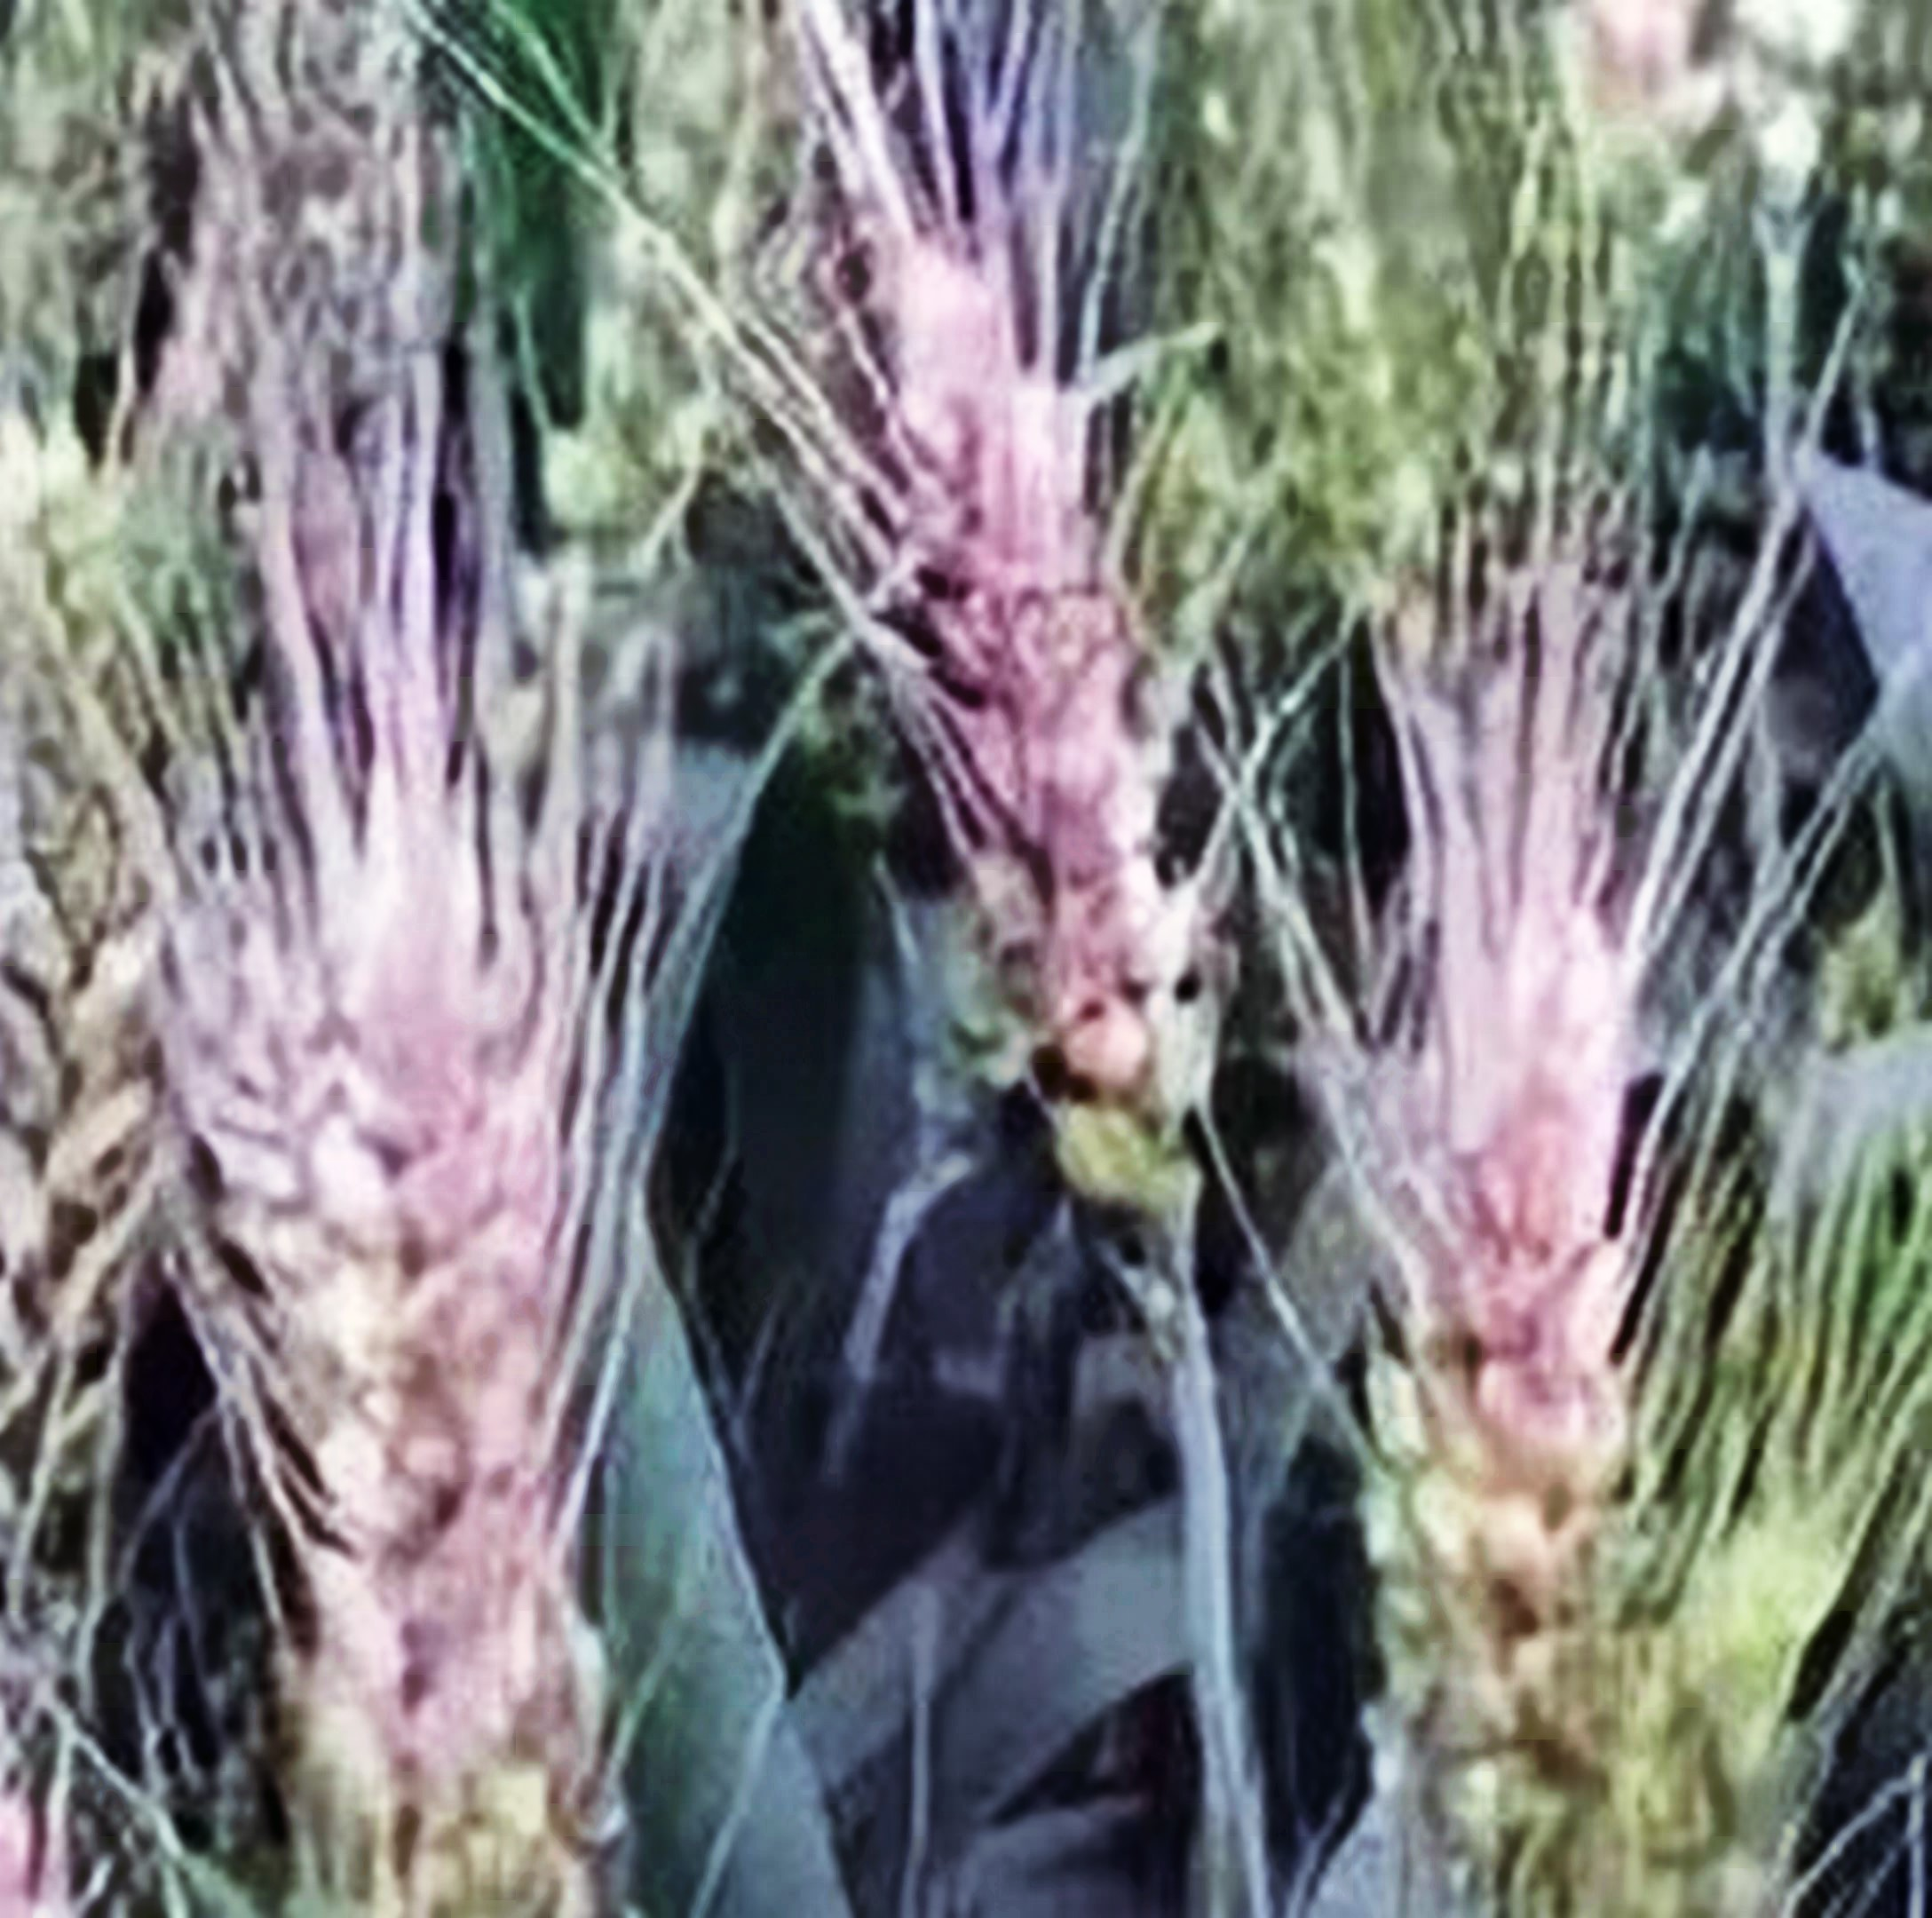Wheat scab: (797, 262, 1296, 1238)
